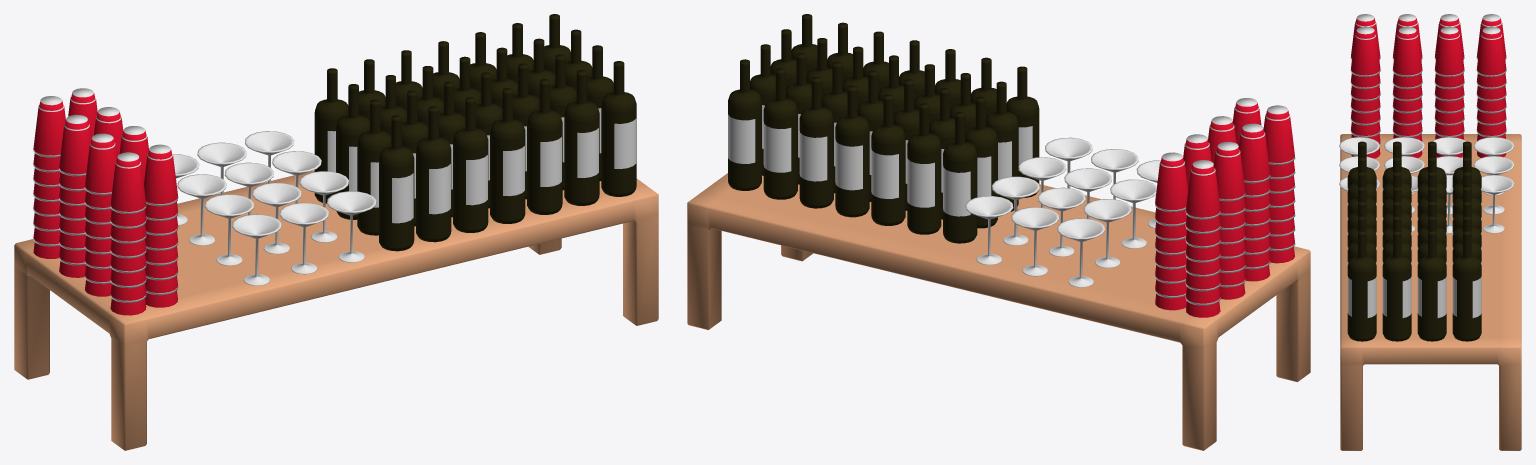
Rendered from Wine_01.fbx.
3 renders of one model, left to right at view 1: azimuth 30°, elevation 25°; view 2: azimuth 150°, elevation 25°; view 3: azimuth 270°, elevation 25°, orthographic. The views are drawn at different scales.
Parts seen in each view (by area): view 1: Bottles, TableLong, Cups, Glasses; view 2: Bottles, TableLong, Cups, Glasses; view 3: Bottles, TableLong, Cups, Glasses.
Part boxes in pixels (bbox=[...]): Bottles: bbox=[314, 14, 636, 251]; TableLong: bbox=[14, 170, 658, 450]; Cups: bbox=[33, 88, 178, 315]; Glasses: bbox=[173, 131, 376, 285]; Bottles: bbox=[728, 14, 1039, 243]; TableLong: bbox=[687, 173, 1310, 450]; Cups: bbox=[1155, 98, 1295, 317]; Glasses: bbox=[965, 137, 1160, 287]; Bottles: bbox=[1347, 141, 1481, 341]; TableLong: bbox=[1340, 134, 1521, 450]; Cups: bbox=[1350, 14, 1506, 158]; Glasses: bbox=[1339, 137, 1514, 233].
Size of the model in its own units: 312 by 155 by 113.
